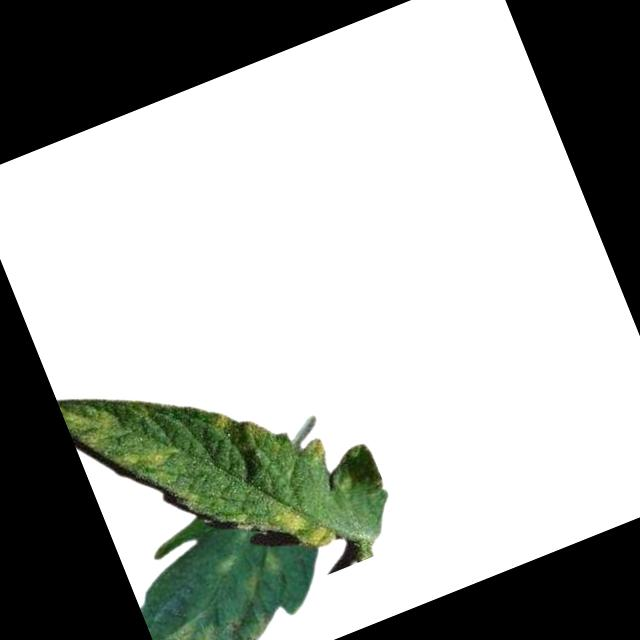Leaf_Mold: (271, 492, 341, 561), (110, 434, 177, 484), (150, 610, 239, 640), (303, 434, 331, 463), (206, 408, 233, 433)
